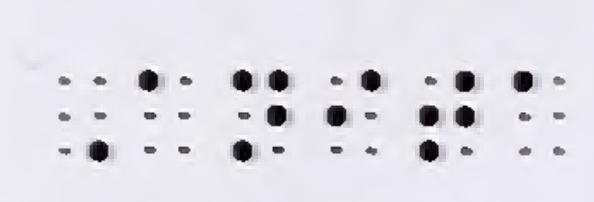capital_sign: (54, 72, 112, 166)
letter_A: (137, 67, 192, 159)
letter_a: (511, 68, 570, 161)
letter_i: (325, 68, 381, 159)
letter_n: (231, 68, 290, 164)
letter_t: (418, 68, 478, 166)
